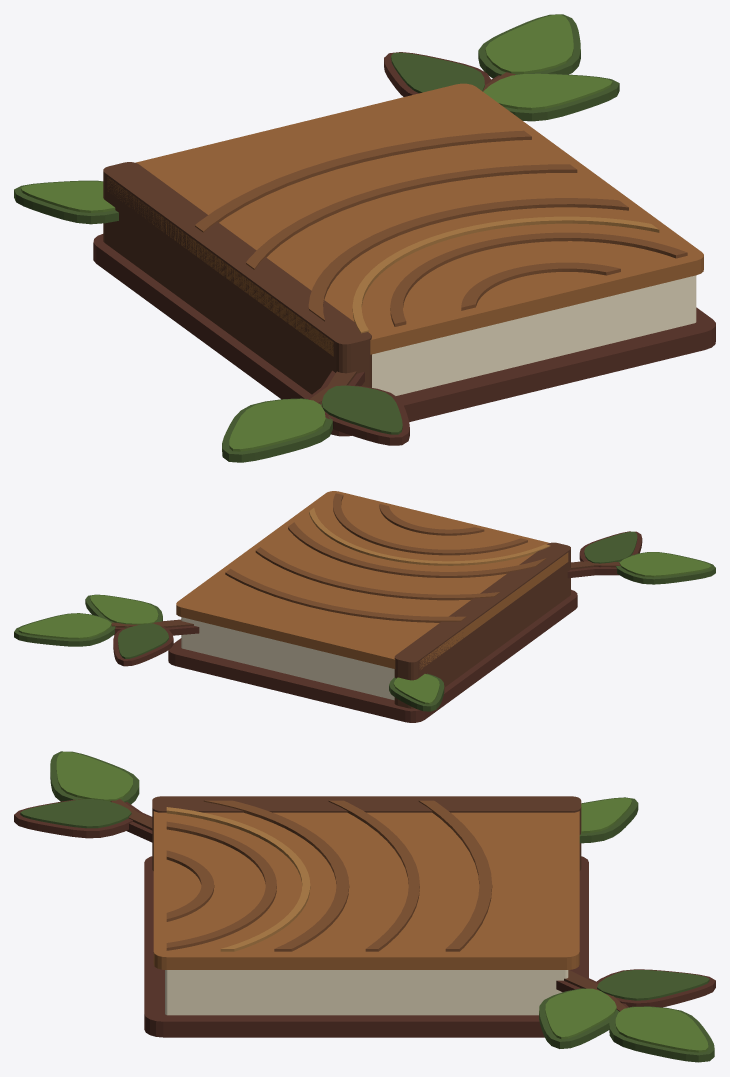
File: book_floresta.fbx
3 renders of one model, top to bottom at view 1: azimuth 30°, elevation 25°; view 2: azimuth 150°, elevation 25°; view 3: azimuth 270°, elevation 25°, orthographic. The views are drawn at different scales.
Visible parts, largest first — view 1: book_floresta_livro; view 2: book_floresta_livro; view 3: book_floresta_livro.
Part boxes in pixels (x1,y1,x2,y2): book_floresta_livro: (14,14,715,462); book_floresta_livro: (14,491,715,722); book_floresta_livro: (14,751,715,1062).
Size of the model in its own units: 4.52 by 0.55 by 4.42.
1 material, 1 textured.
